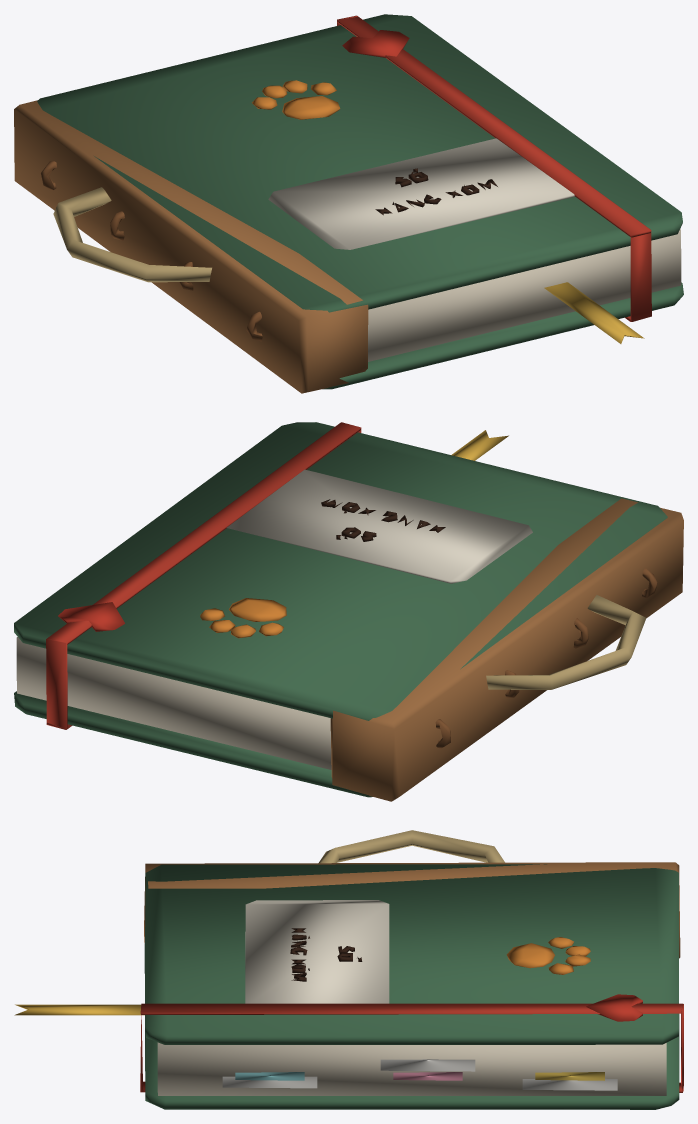
The model's file is so_hang_xom.glb.
3 renders of one model, top to bottom at view 1: azimuth 30°, elevation 25°; view 2: azimuth 150°, elevation 25°; view 3: azimuth 270°, elevation 25°, orthographic. The views are drawn at different scales.
Parts seen in each view (by area): view 1: so_hang_xom; view 2: so_hang_xom; view 3: so_hang_xom.
Boxes of the visible parts, bbox=[...] form: so_hang_xom: bbox=[14, 14, 683, 393]; so_hang_xom: bbox=[14, 422, 683, 801]; so_hang_xom: bbox=[14, 830, 683, 1109].
Size of the model in its own units: 0.1688 by 0.0288 by 0.212.
